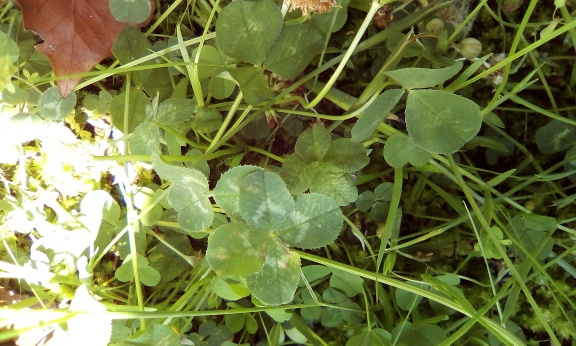4leaf: (202, 170, 344, 306), (278, 123, 371, 206)
